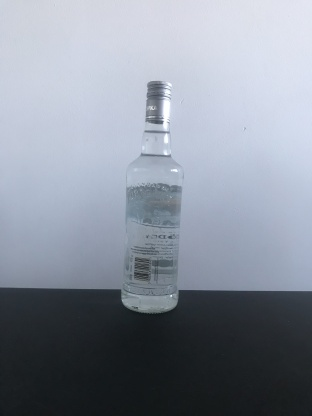nakretka: (144, 79, 173, 124)
